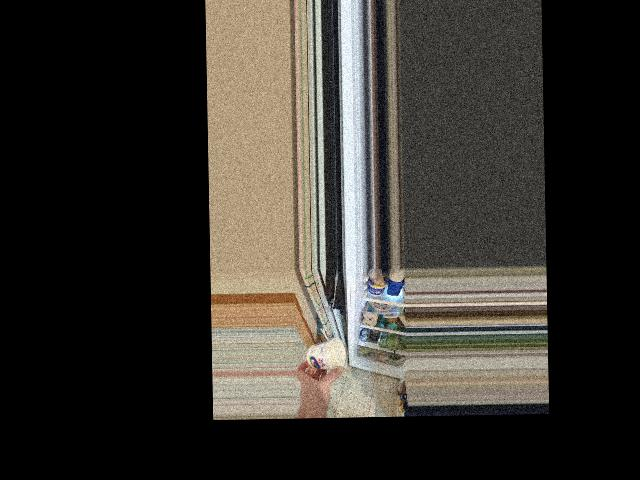cotage: (307, 340, 346, 372)
